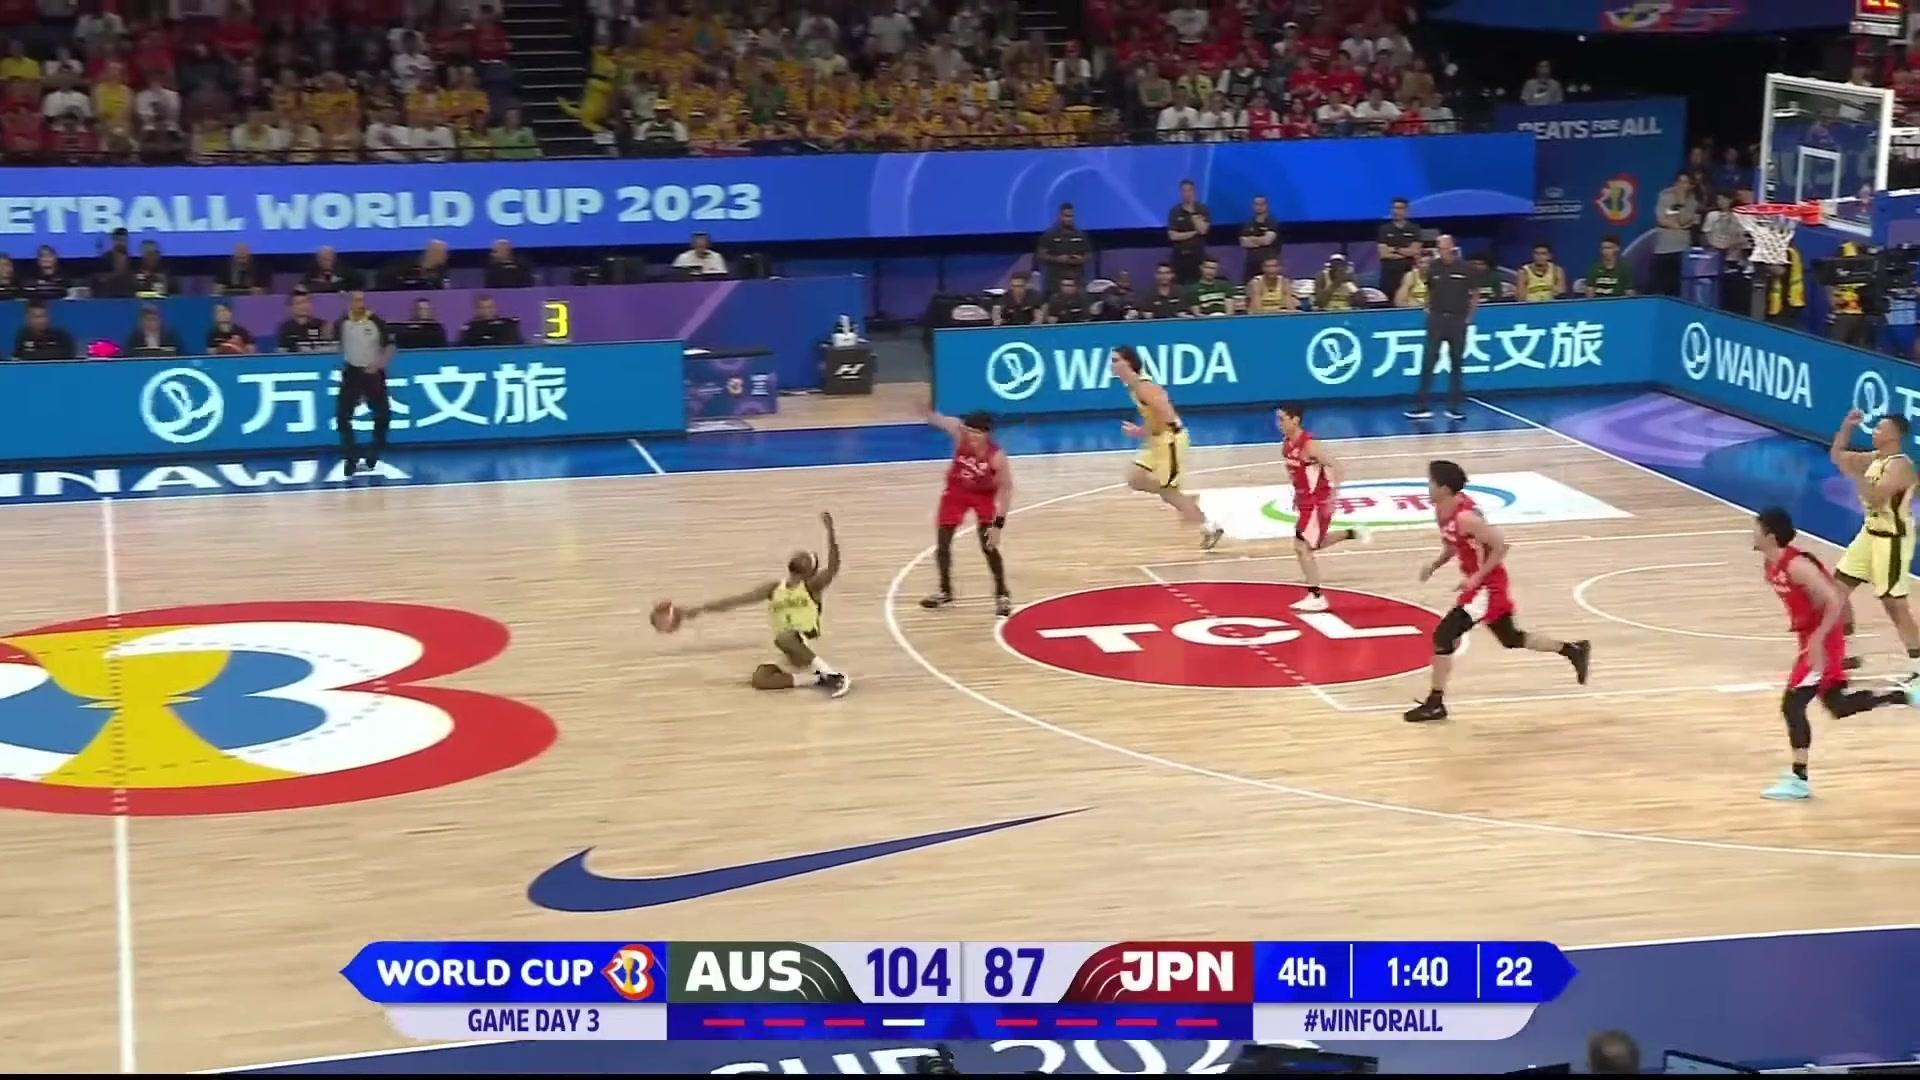foul: (695, 409, 1039, 690)
